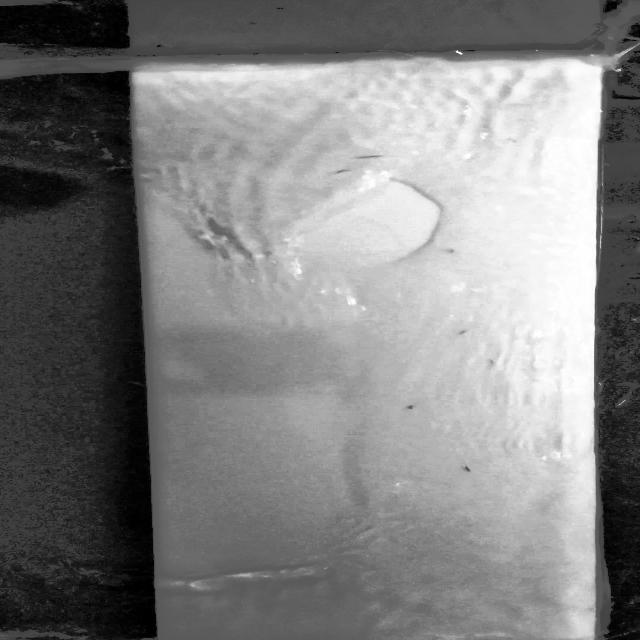shrimp: (346, 152, 394, 162), (436, 245, 470, 258), (396, 400, 420, 417), (455, 462, 476, 480)
